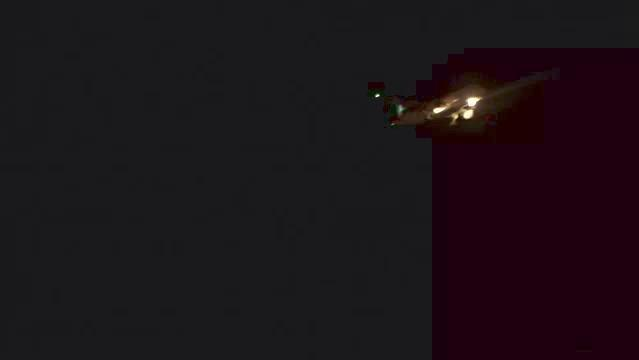Plane: (311, 71, 546, 147)
